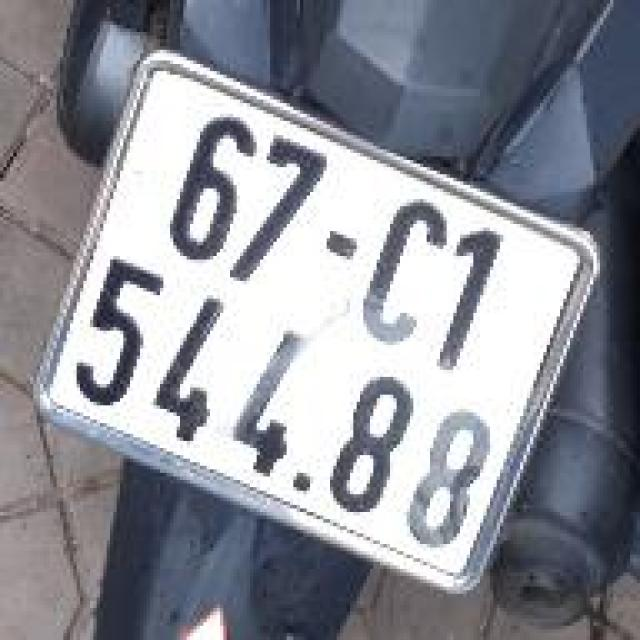1: (399, 210, 529, 395)
4: (217, 318, 344, 494), (140, 283, 262, 455)
5: (60, 247, 182, 423)
6: (152, 98, 270, 281)
7: (217, 124, 344, 300)
8: (310, 359, 432, 533), (392, 393, 507, 564)
C: (344, 183, 464, 357)
